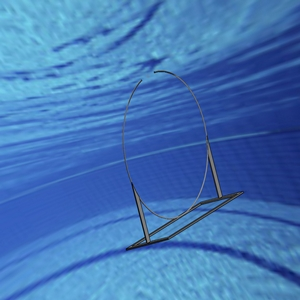circle: (120, 69, 242, 251)
